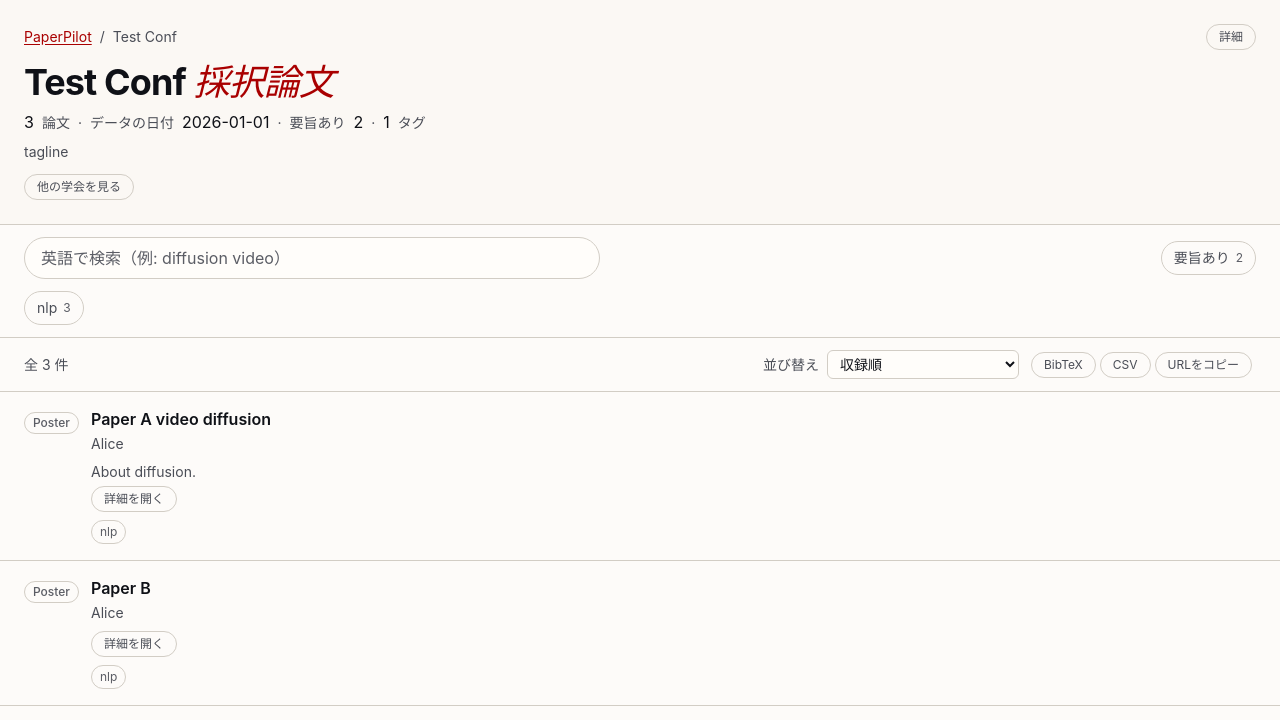
CatalogApp UX audit (design doc 53) › finds papers from full-width Latin typed with a Japanese IME
Expected: the text "Paper B" is shown, [91,578,151,598]
In the search field with id "search": (312, 258) [24,237,600,279], type "ｄｉｆｆｕｓｉｏｎ"
Wait 300 ms
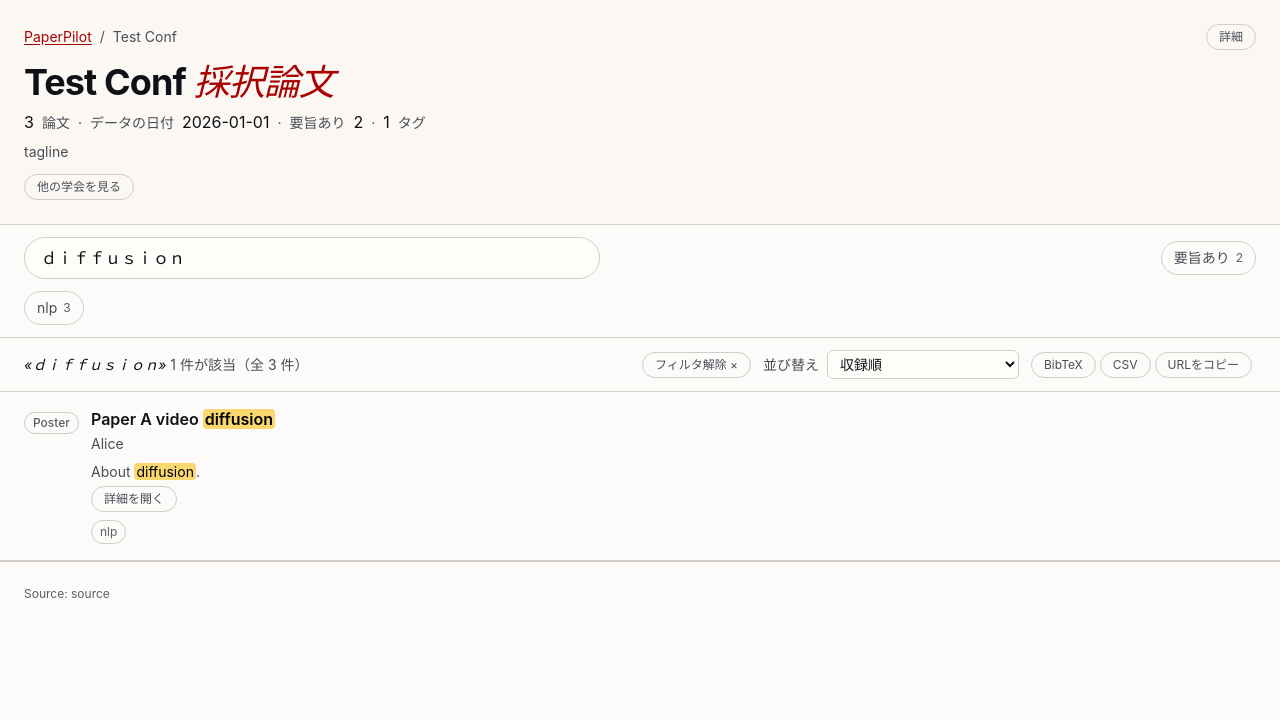
Now the text "1 件が該当（全 3 件）" is shown, box [170,356,308,372]
